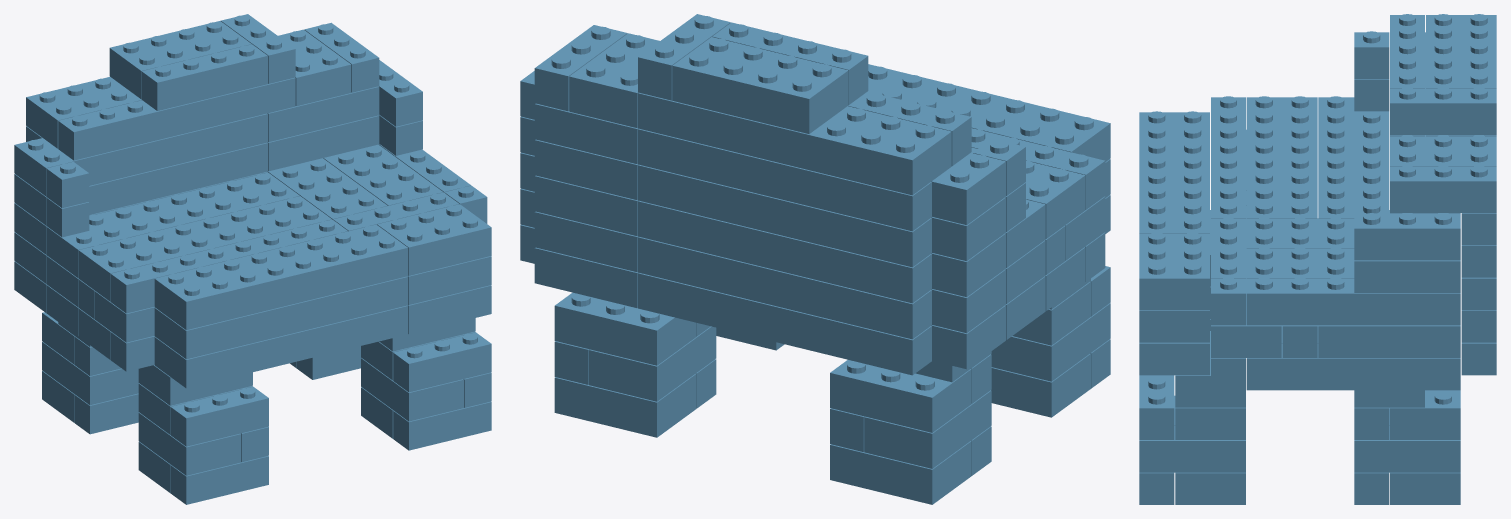
File: 024_bed_L4.glb
3 views of the same model, side by side, from view 1: azimuth 30°, elevation 25°; view 2: azimuth 150°, elevation 25°; view 3: azimuth 270°, elevation 25° (orthographic). The views are drawn at different scales.
Size of the model in its own units: 12.98 by 11.13 by 9.98.
